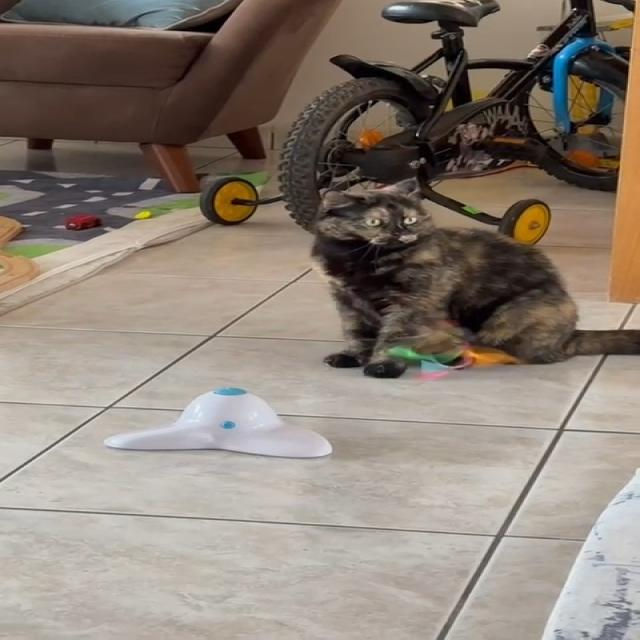authorized: (308, 176, 639, 377)
